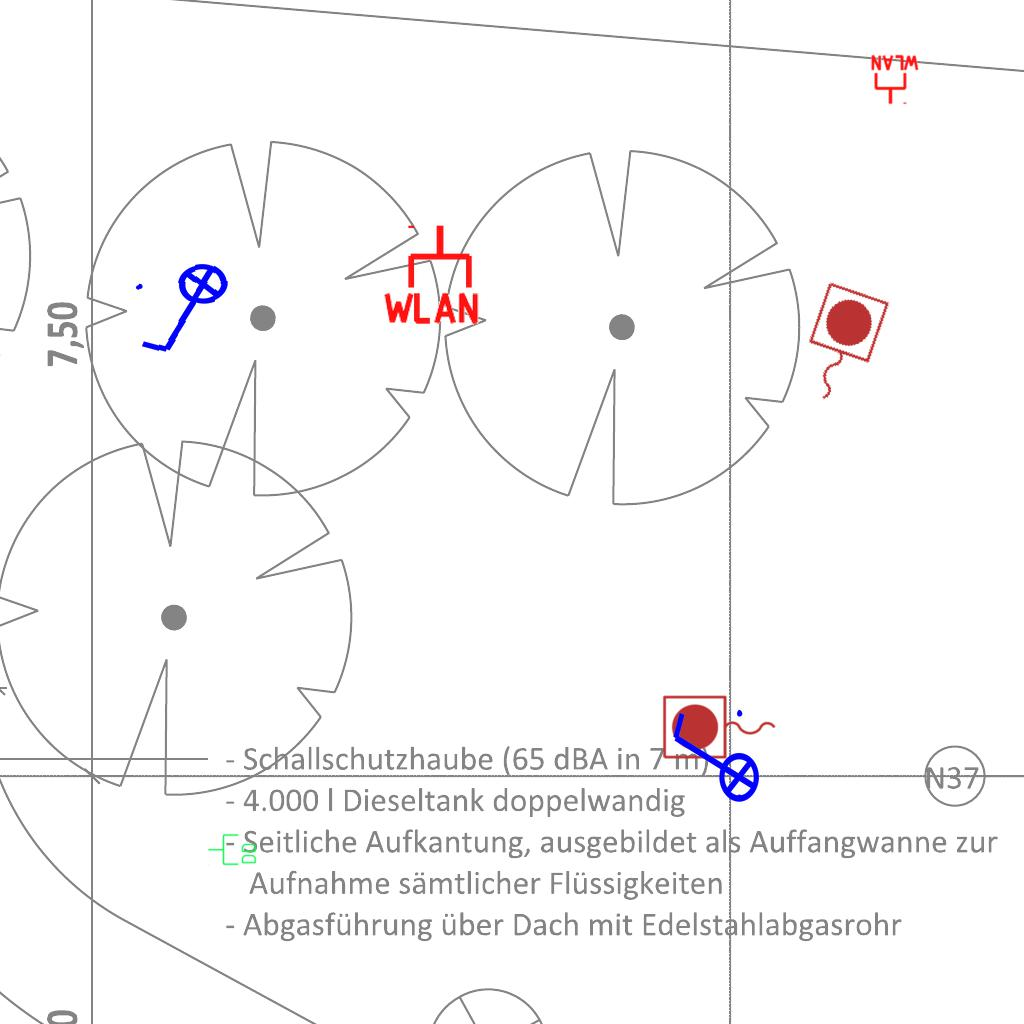Ausschalter_beleuchtet: (128, 260, 246, 362), (665, 704, 761, 816)
Datenanschluss_zweifach: (207, 833, 258, 867)
WLAN: (379, 221, 483, 326), (869, 54, 921, 106)
Zugtaster: (786, 276, 894, 416), (659, 692, 781, 764)
